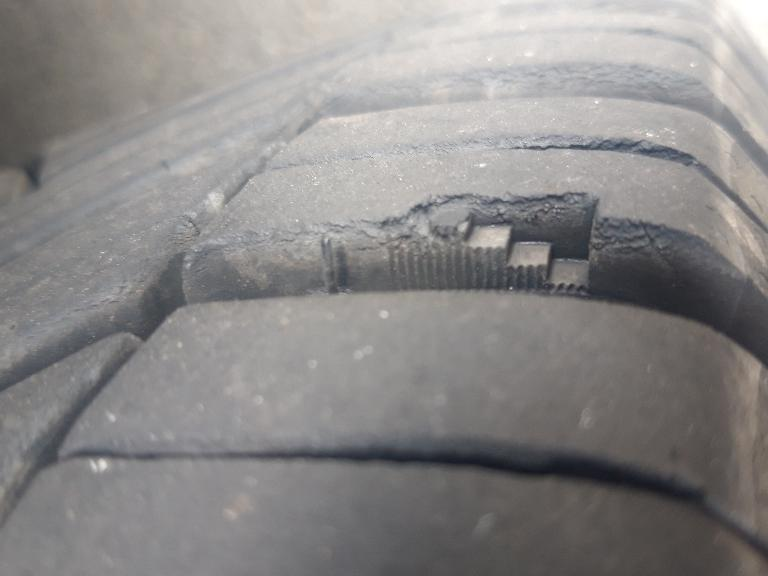temoin:80: (381, 183, 608, 306)
